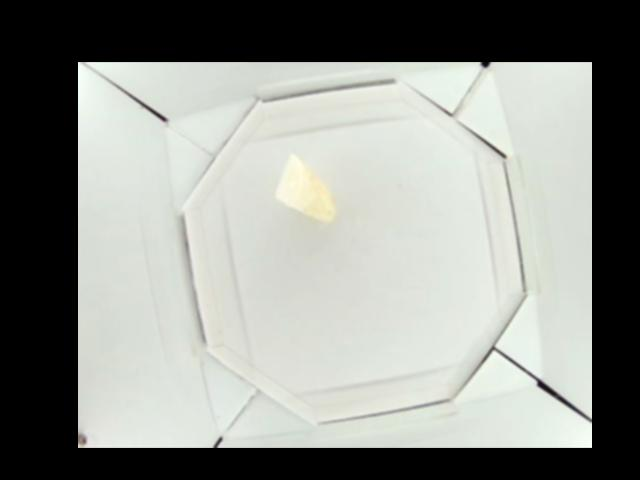Mooli: (278, 153, 335, 225)
